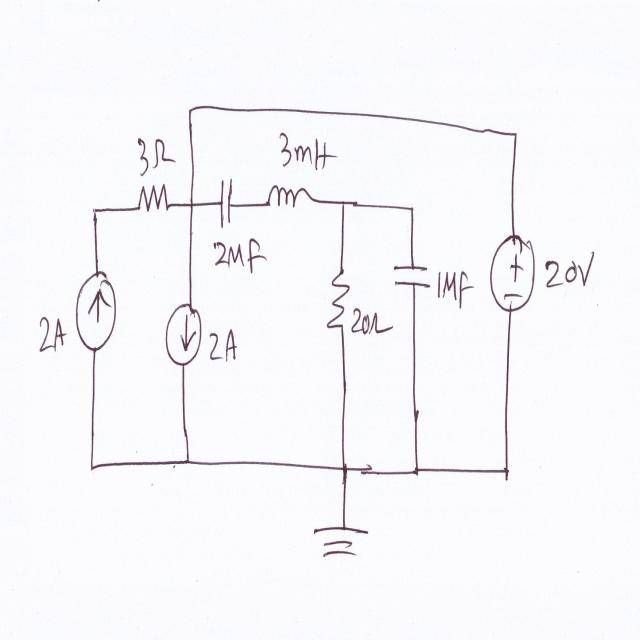capacitor: (388, 251, 434, 298), (218, 166, 238, 235)
current_source: (73, 260, 119, 358), (164, 291, 203, 368)
ground: (309, 516, 372, 566)
inductor: (261, 172, 313, 219)
resistor: (326, 261, 352, 347), (131, 178, 173, 216)
voltage_source: (488, 221, 538, 319)
